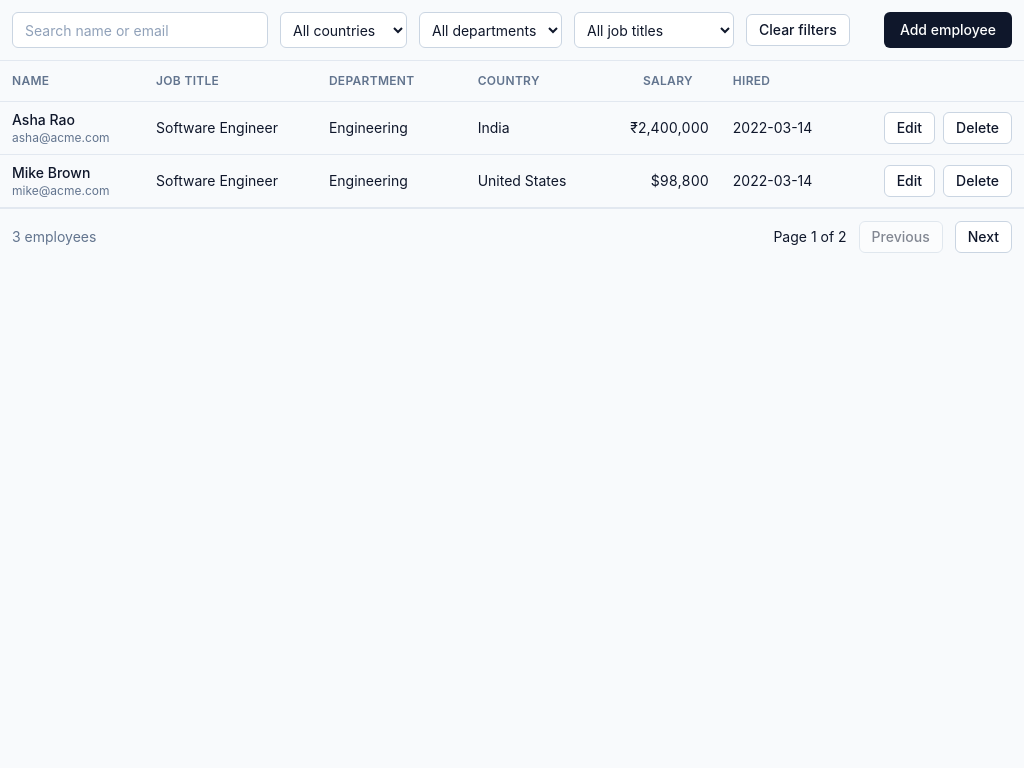
it: adding, editing and deleting employees › deleting › deletes that employee once confirmed
This screenshot has width=1024, height=768.
Expected: the text "Asha Rao" is shown, x1=12 y1=110 x2=75 y2=128
Click the button with aria-label "Delete Asha Rao": coordinates (978, 128) x1=943 y1=112 x2=1012 y2=144
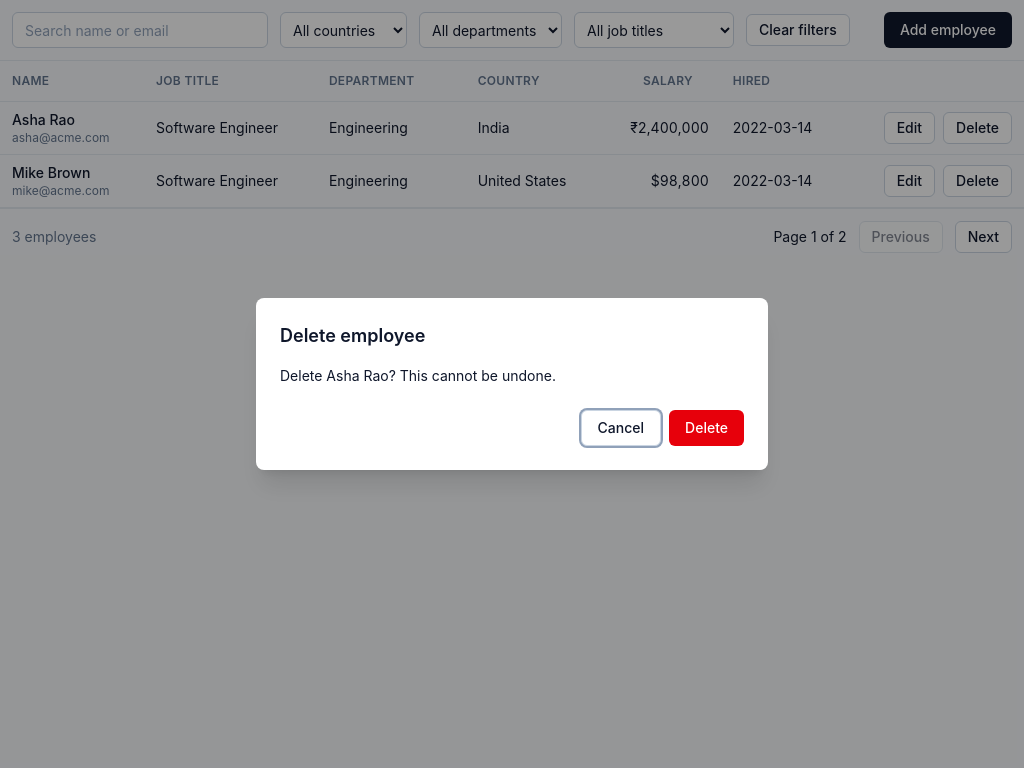
Click the button "Delete": coordinates (707, 428) x1=669 y1=410 x2=744 y2=446
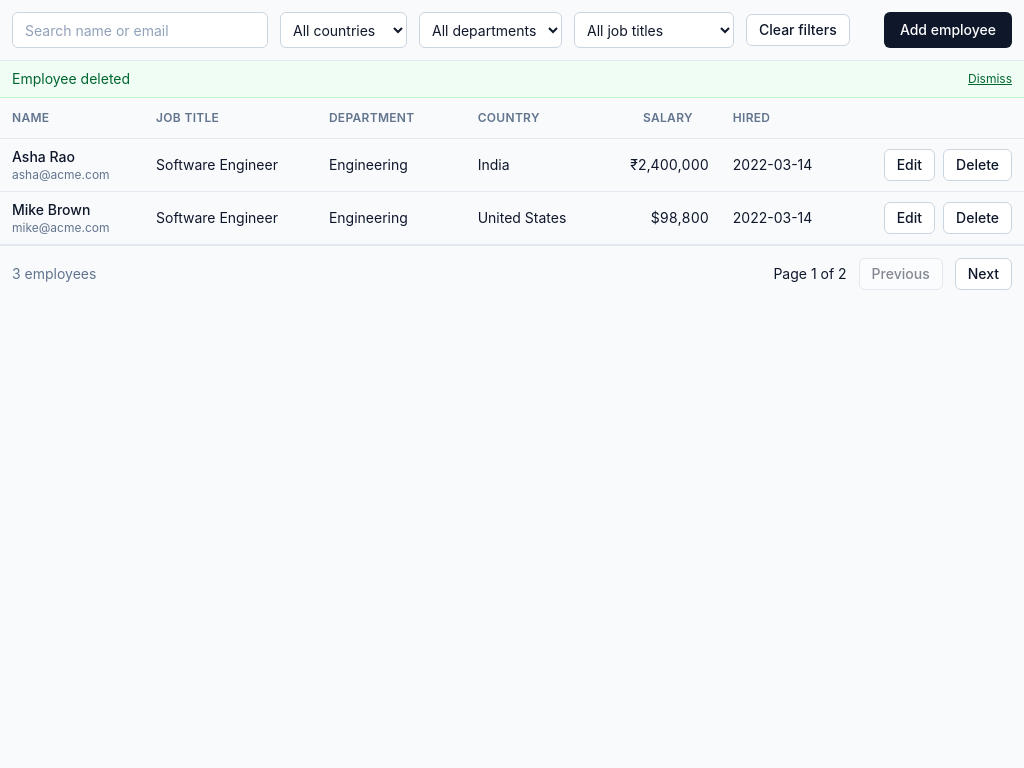
Expected: the message shows "Employee deleted", x1=12 y1=70 x2=130 y2=87
Expected: the dialog is gone
